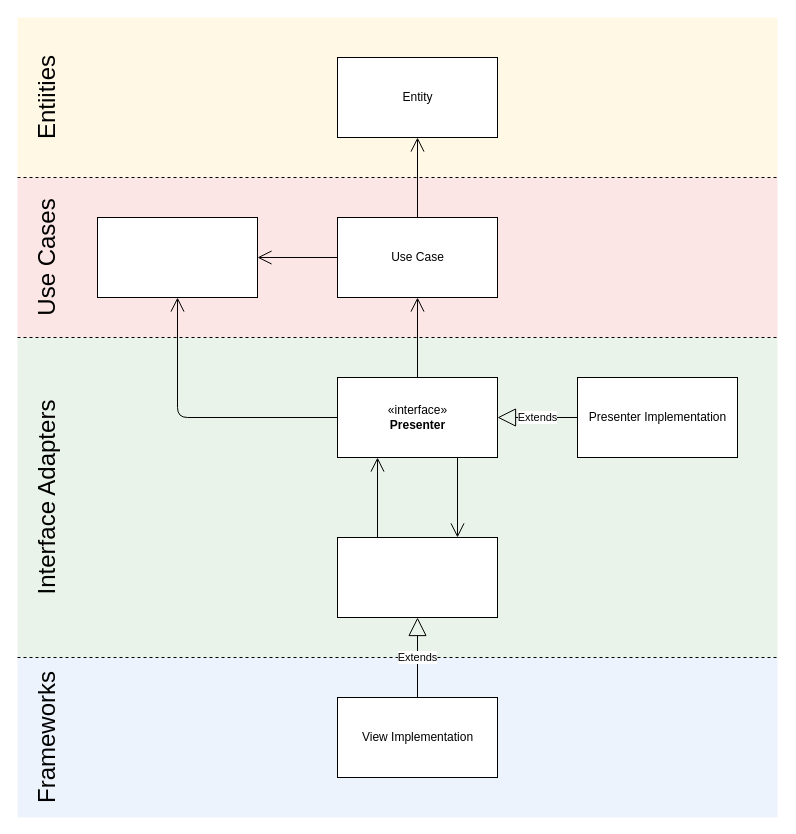
The diagram is 796 pixels wide and 834 high, and some of its shapes have lost their labels. The centre of each missing label's shape, as x and y in pixels:
"Input Data" belongs at point 177,257.
"«interface» View" belongs at point 417,577.
